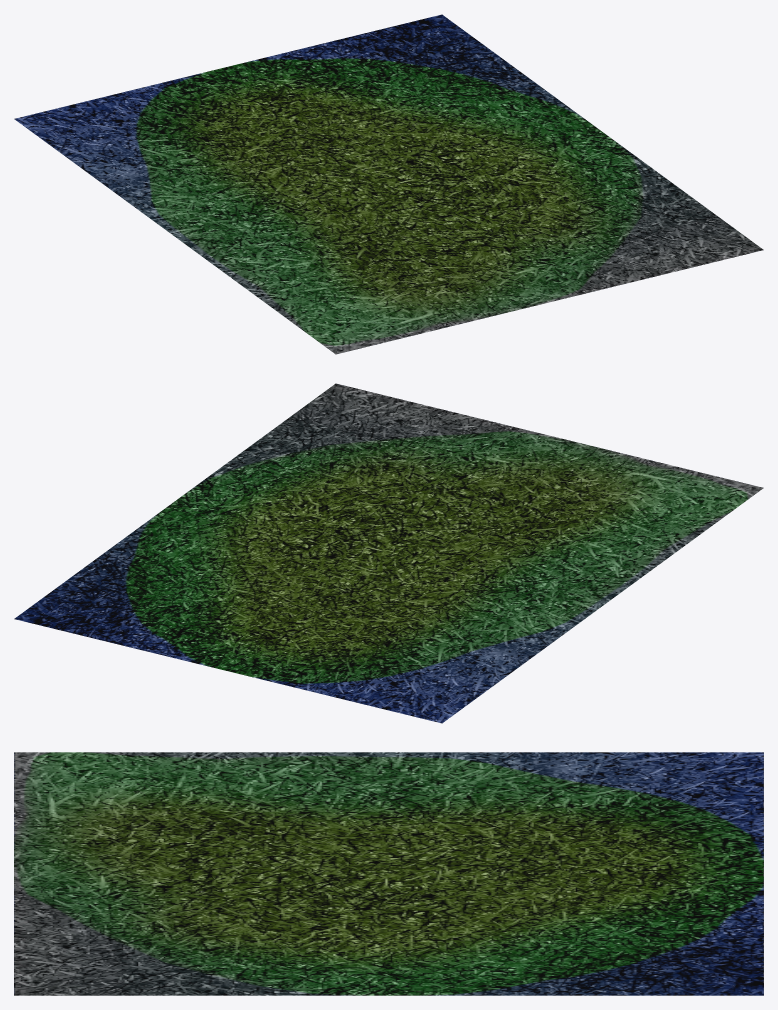
Rendered from teku.fbx.
3 views of the same model, one above another, from view 1: azimuth 30°, elevation 25°; view 2: azimuth 150°, elevation 25°; view 3: azimuth 270°, elevation 25° (orthographic). The views are drawn at different scales.
Visible parts, largest first — view 1: Plane001; view 2: Plane001; view 3: Plane001.
Part boxes in pixels (x1,y1,x2,y2): Plane001: [14, 14, 763, 354]; Plane001: [14, 383, 763, 723]; Plane001: [14, 752, 763, 995].
Size of the model in its own units: 172 by 225 by 0.
1 material, 1 textured.
